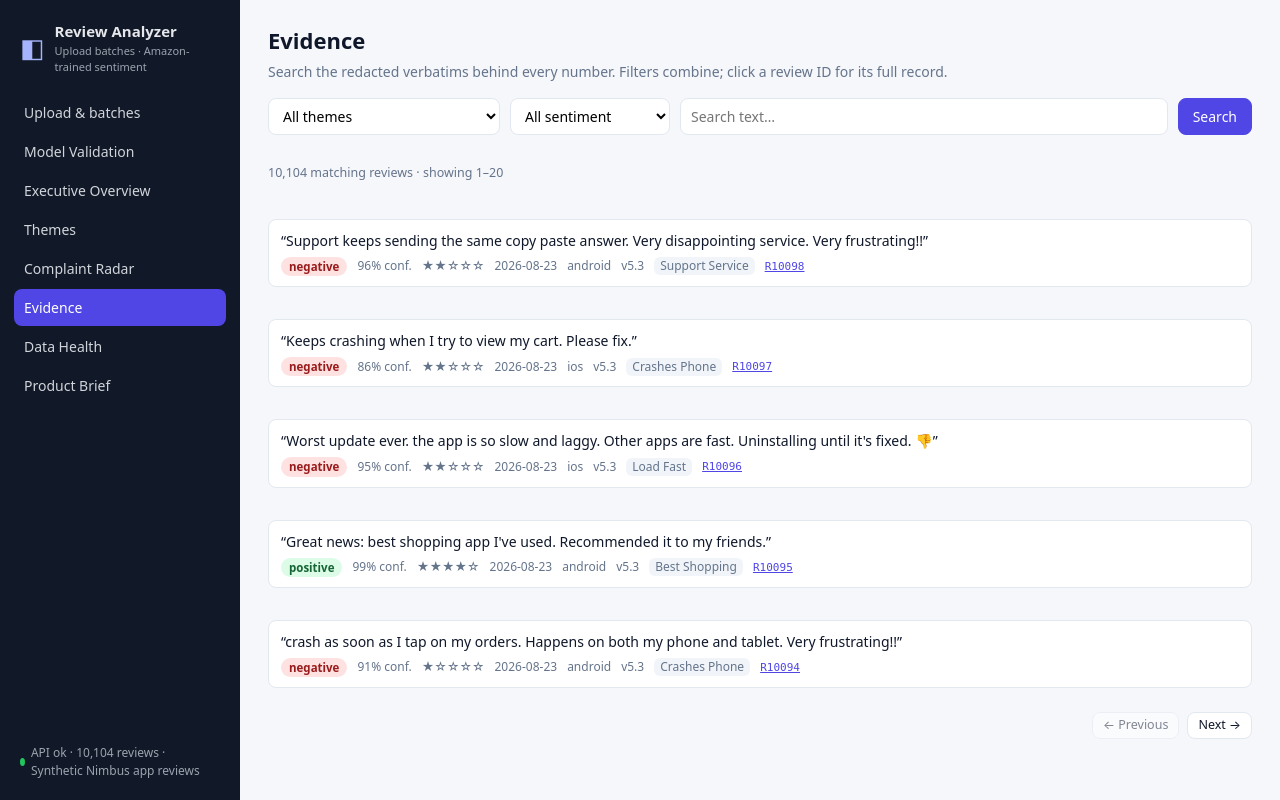
Test: Evidence › opens a review drawer with probabilities
This screenshot has width=1280, height=800.
Click the button "R10098" at (785, 266), box [765,260,805,273]
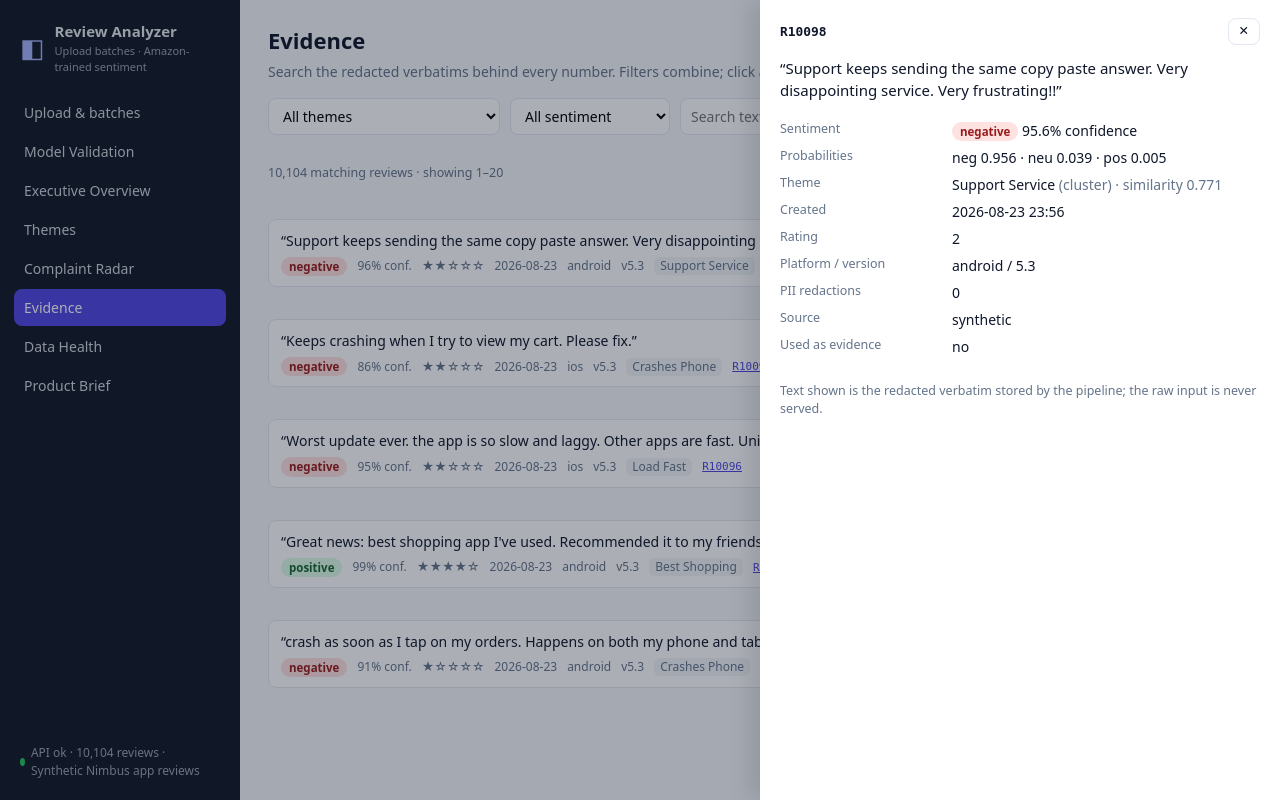
Now the text "Probabilities" is shown, box [780,147,853,164]
